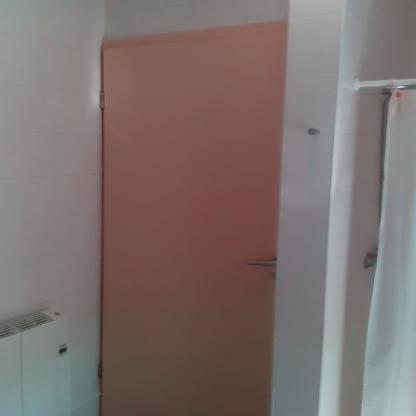door: (100, 47, 282, 416)
hinged: (99, 90, 108, 112), (98, 362, 104, 380)
lever: (244, 257, 282, 268)
